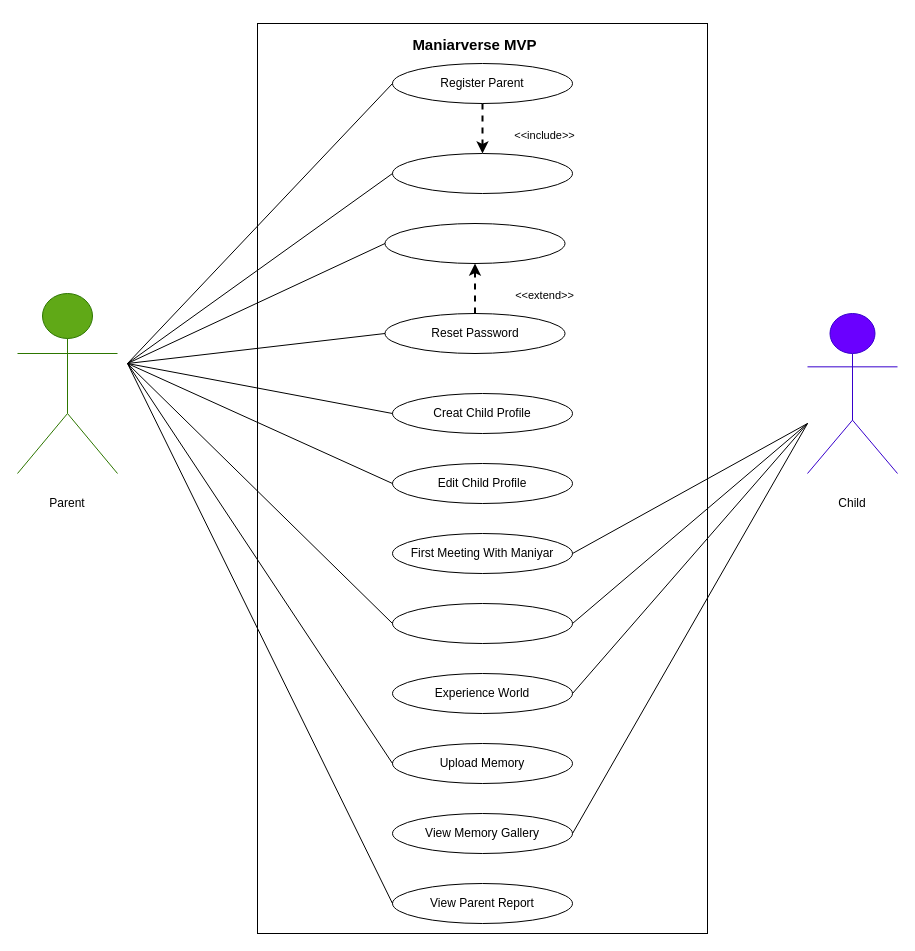
This 915x951 diagram has some shape labels left out. The shapes that lost their labels are listed below. From the top down, each one's box as (x1, y1, x2, y2) in pixels, then its label:
(392, 152, 572, 194): Verify Email
(384, 222, 565, 264): Login
(392, 602, 572, 644): Select World
